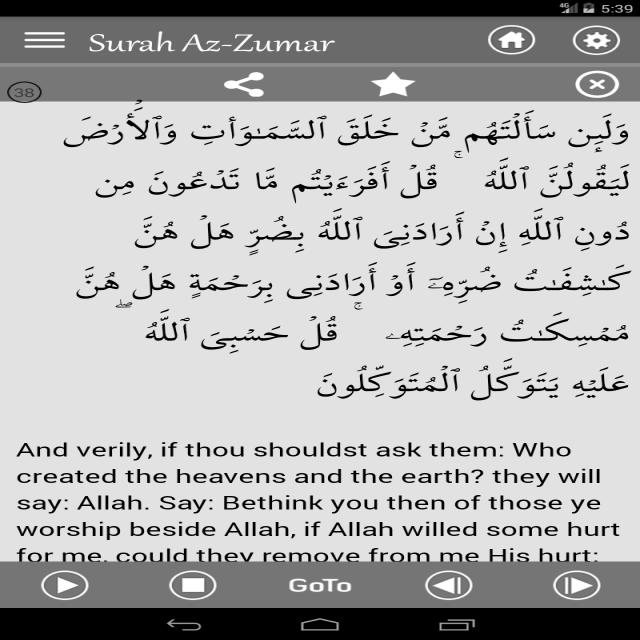ImageButton: (542, 566, 610, 604), (417, 564, 481, 604), (163, 566, 224, 602), (33, 568, 100, 600), (482, 20, 540, 56), (217, 66, 277, 100), (570, 22, 626, 56), (570, 70, 623, 98), (11, 30, 71, 54)
TextView: (49, 108, 628, 408), (12, 436, 614, 560), (81, 27, 349, 59), (265, 564, 376, 598)
